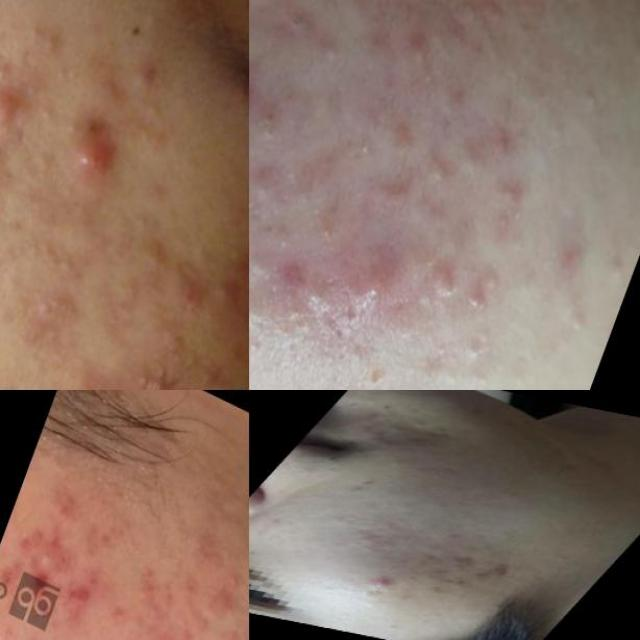8: (331, 215, 418, 332), (110, 551, 185, 632), (473, 175, 542, 260), (160, 254, 221, 322), (410, 141, 464, 196), (542, 232, 594, 288), (476, 121, 526, 176), (204, 582, 249, 638), (0, 74, 29, 146), (132, 612, 202, 640), (360, 573, 399, 592)
9: (48, 104, 136, 202)
blackheads: (22, 515, 84, 590), (416, 254, 460, 315), (124, 355, 189, 390), (70, 366, 144, 390), (61, 573, 101, 614), (416, 568, 478, 594), (472, 557, 520, 583), (442, 548, 488, 572)
dark spot: (273, 0, 318, 45)
